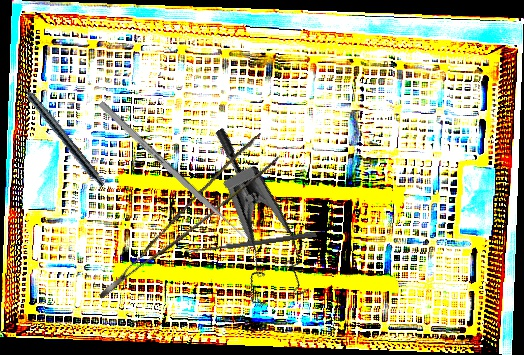Handpiece: (10, 71, 109, 189)
Pusher: (97, 100, 252, 245)
Speculum: (154, 125, 338, 323)
Surgical Spoon: (185, 230, 317, 256)
Tissue Forceps: (75, 131, 288, 300)
